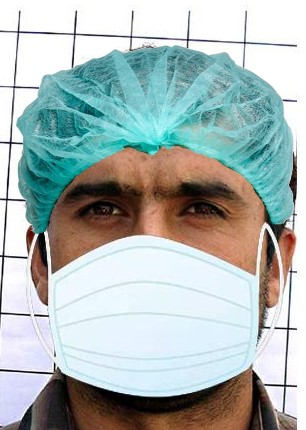with_mask_and_cap: (23, 51, 289, 398)
